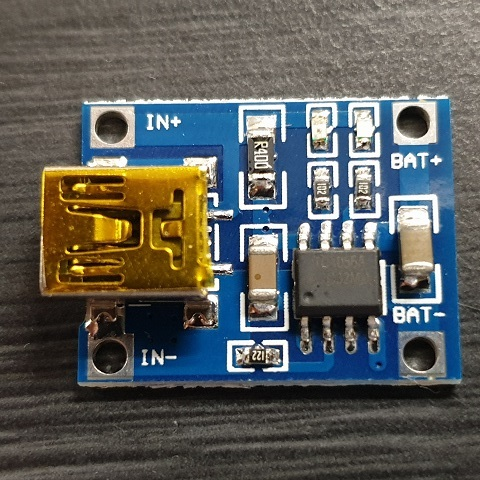batt+: (381, 94, 434, 146)
batt-: (401, 330, 442, 378)
charge: (302, 98, 340, 154)
done: (341, 96, 382, 154)
rprog: (224, 342, 288, 370)
usb: (37, 170, 205, 294)
